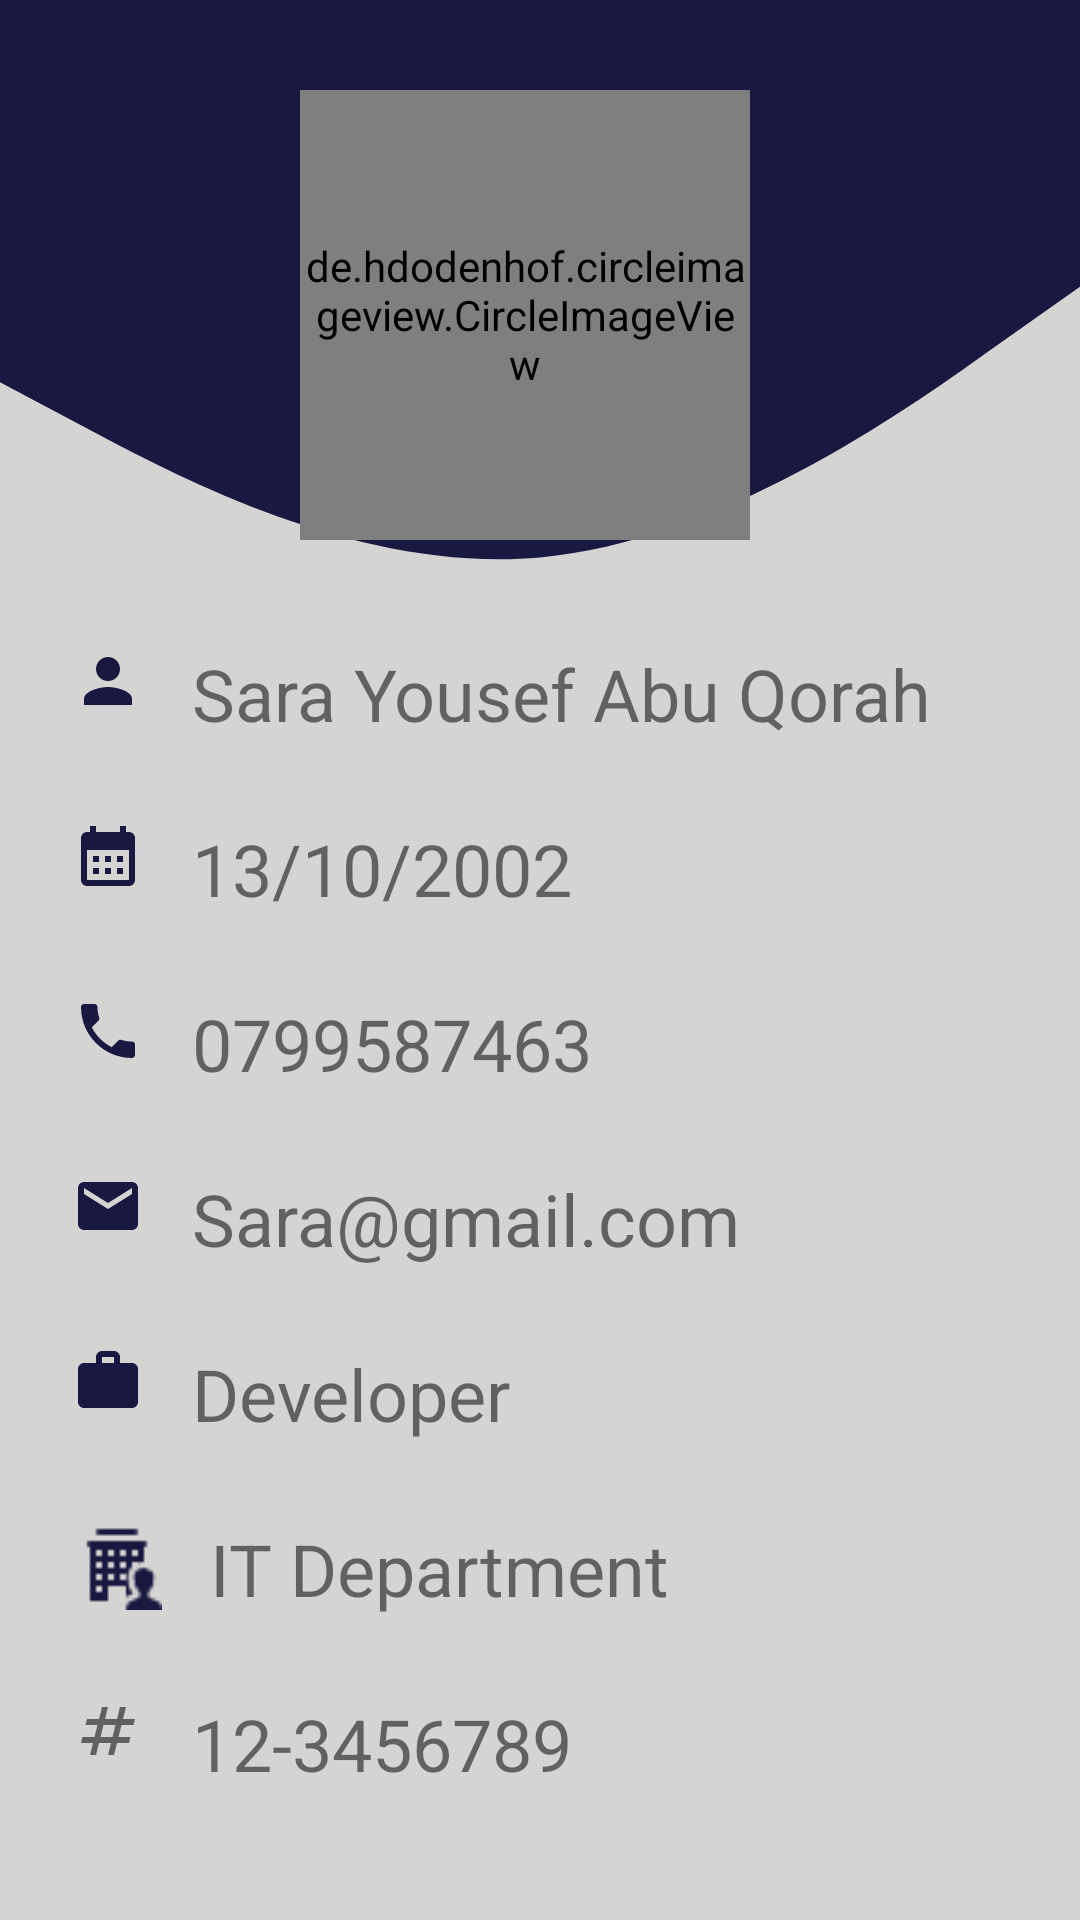

Locate icon controls on the screen. Image size 1080px x 1920px, boxes as (x1, y1, x2, y2).
calendar month: (81, 826, 135, 886)
email: (78, 1182, 138, 1230)
numbers: (81, 1707, 135, 1755)
person: (84, 657, 132, 705)
phone: (81, 1004, 135, 1058)
work: (78, 1351, 138, 1408)
